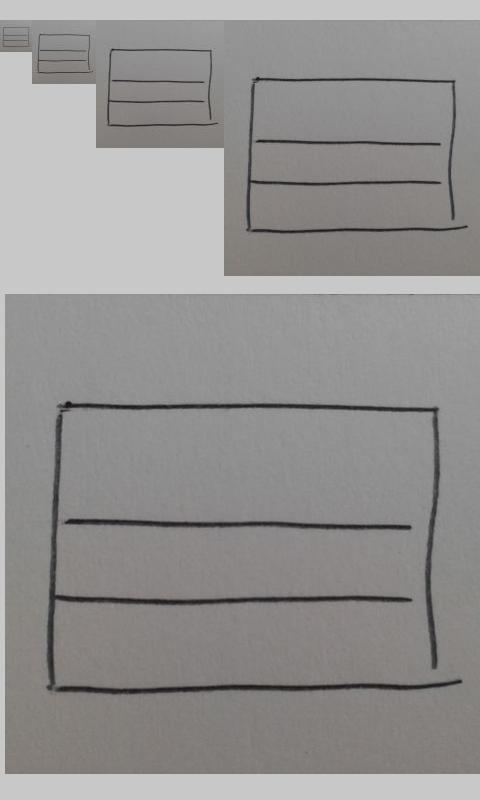list_view: (46, 398, 443, 695), (246, 76, 457, 234), (106, 48, 213, 127), (37, 33, 91, 74), (2, 26, 30, 48)
